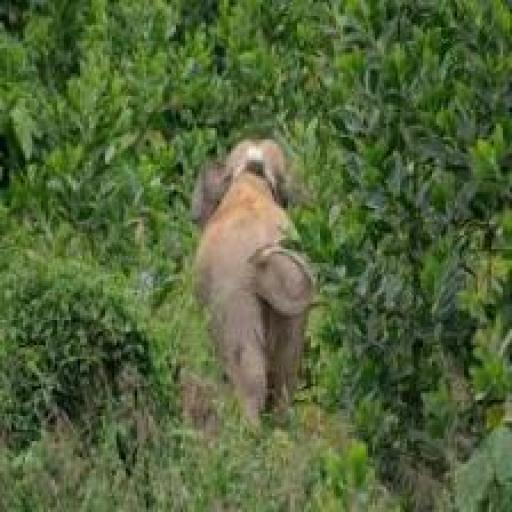Elephant: (146, 140, 330, 428)
